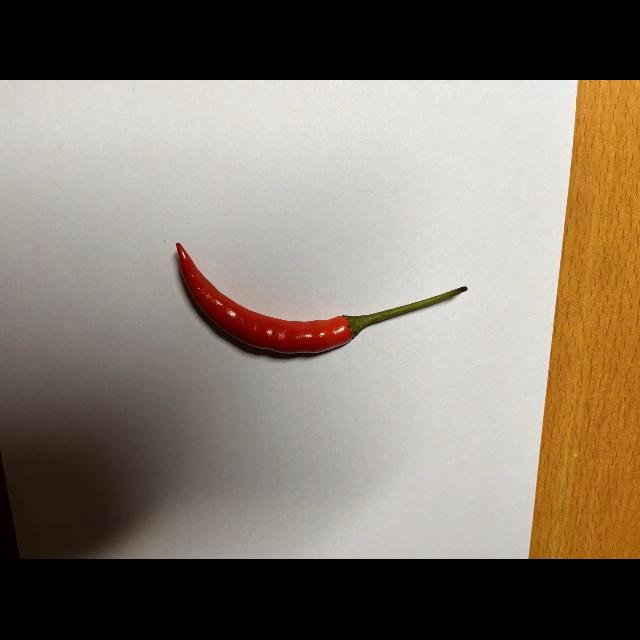chili_pepper: (160, 241, 476, 362)
